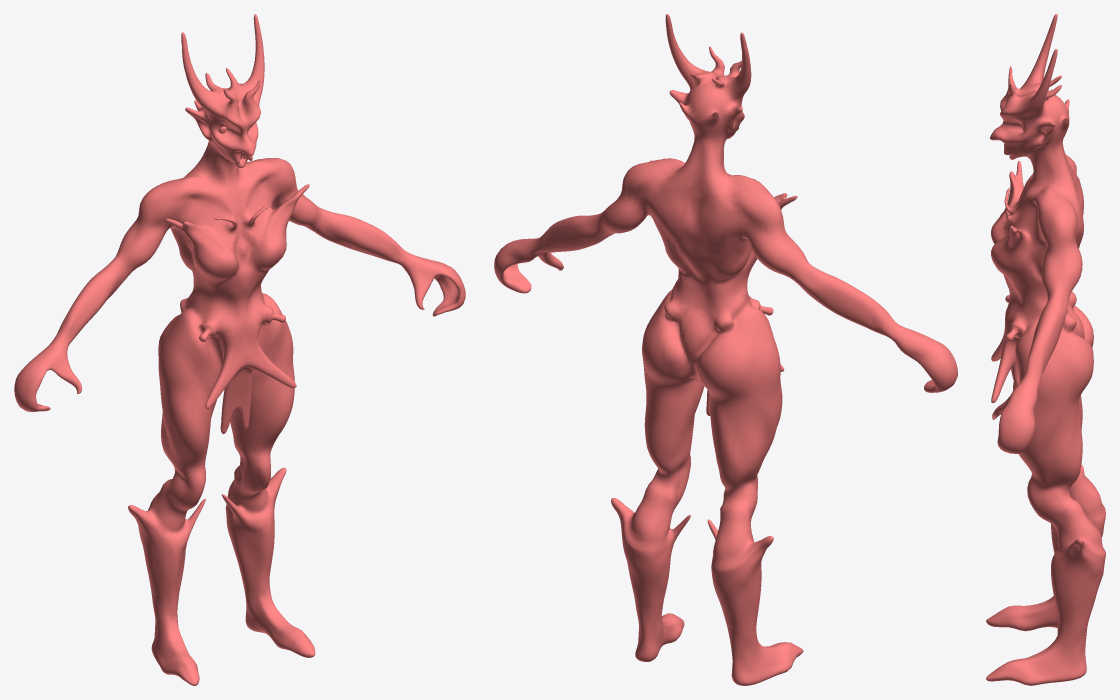
File: female_zbrush1.fbx
The picture shows the model from 3 angles, left to right: view 1: azimuth 30°, elevation 25°; view 2: azimuth 150°, elevation 25°; view 3: azimuth 270°, elevation 25°; orthographic projection. The views are drawn at different scales.
Parts seen in each view (by area): view 1: female_zbrush1; view 2: female_zbrush1; view 3: female_zbrush1.
Boxes of the visible parts, left/top/right/bottom form: female_zbrush1: left=14, top=14, right=465, bottom=685; female_zbrush1: left=494, top=14, right=957, bottom=685; female_zbrush1: left=986, top=14, right=1105, bottom=685.
Bounding box in the file's own units: 232 × 311 × 54.2.
